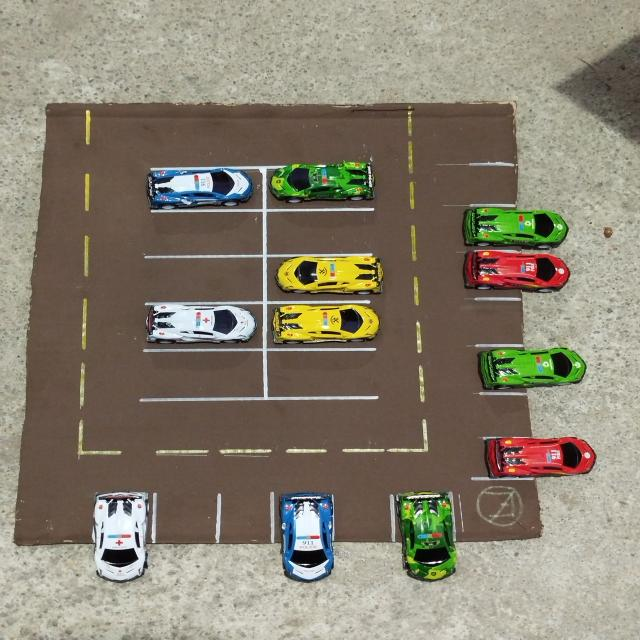libre: (16, 488, 88, 586), (464, 296, 602, 340), (140, 349, 263, 398), (156, 488, 218, 584), (265, 207, 381, 257), (338, 491, 392, 597), (144, 210, 267, 256), (220, 487, 276, 588), (265, 350, 379, 399), (141, 258, 265, 302), (457, 162, 581, 202), (478, 396, 598, 436)
no_estacionarse: (464, 475, 546, 542)
ocupado: (393, 485, 462, 586), (140, 300, 266, 349), (474, 343, 594, 392), (266, 299, 382, 349), (93, 490, 153, 586), (461, 247, 580, 295), (264, 254, 384, 301), (275, 492, 336, 584), (142, 165, 264, 210), (262, 164, 379, 210), (460, 204, 581, 248), (482, 434, 594, 476)
